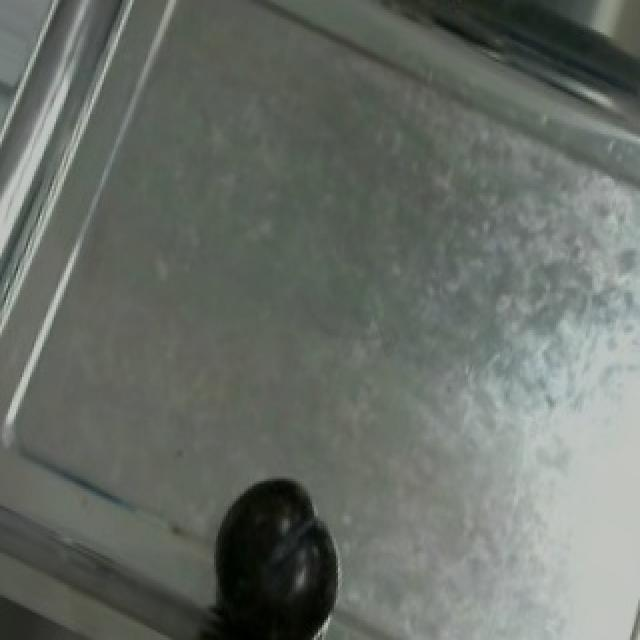Fruit: (196, 459, 348, 640)
